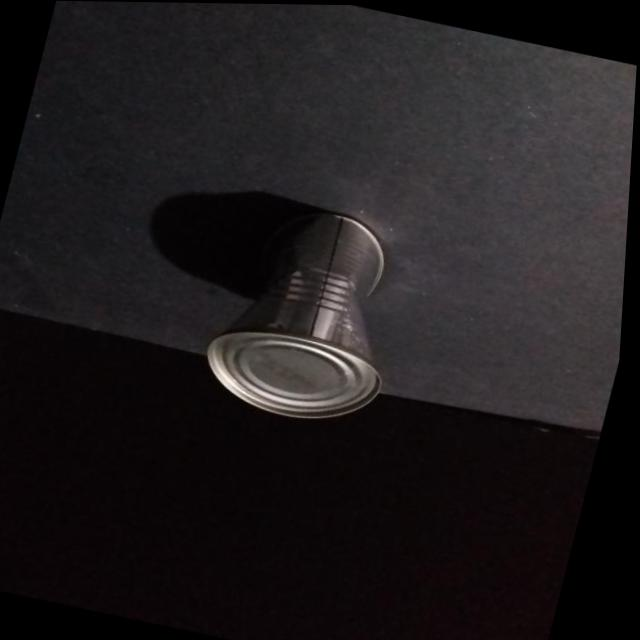metal: (190, 194, 383, 418)
